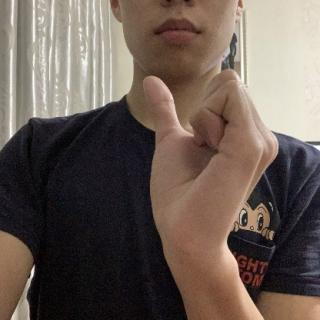WAW: (128, 65, 280, 279)
